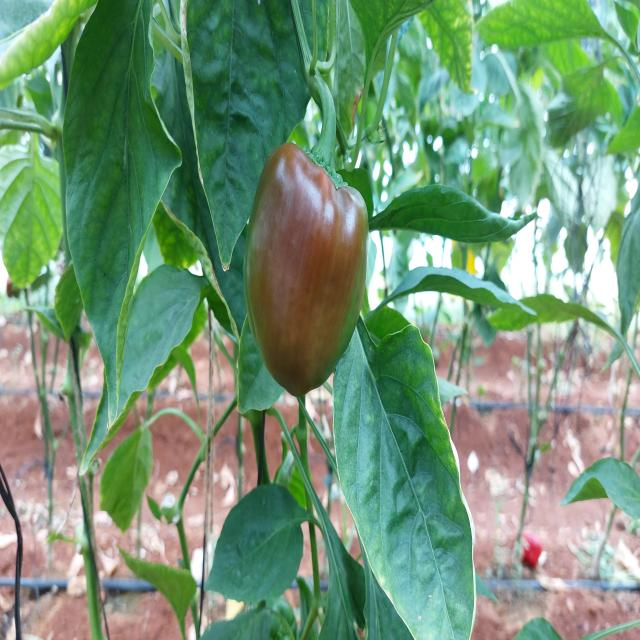BrownishRed--Can-be-Harvested: (239, 118, 382, 401)
